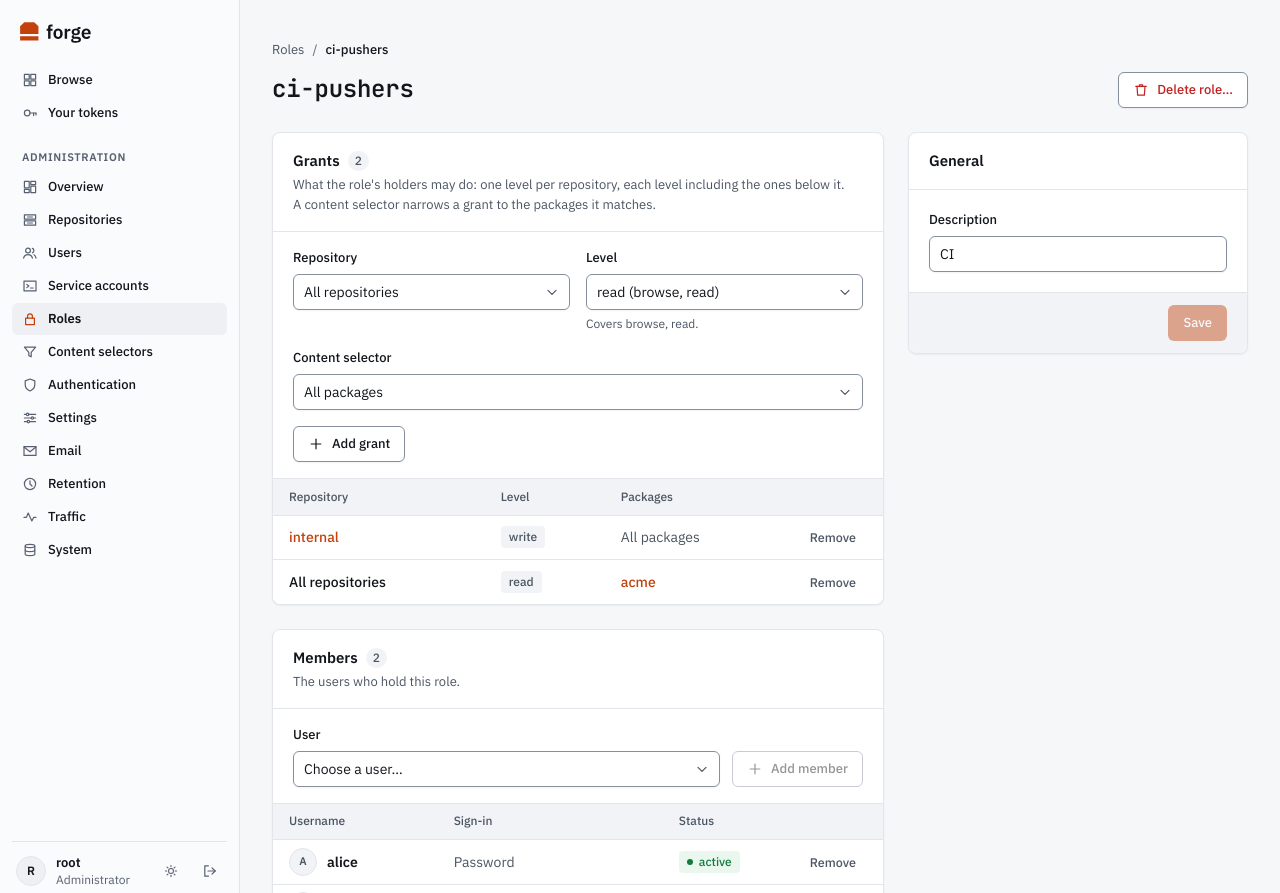
admin roles › sets the level of a grant the role has on that repository
The image size is (1280, 893).
Select "internal" in the dropdown labelled "Repository". click: coordinates (432, 292)
box: [293,274,570,310]
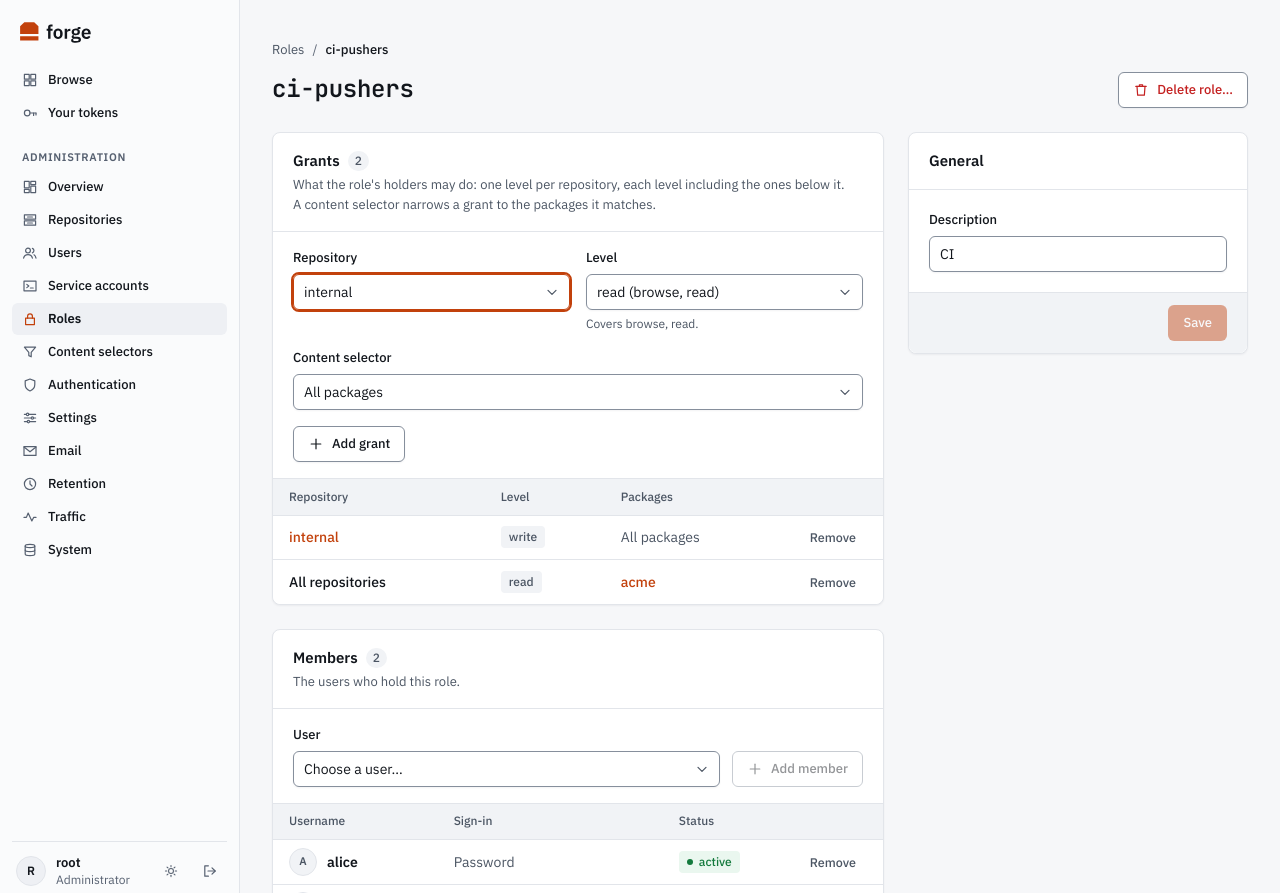
Select "read (browse, read)" in the dropdown labelled "Level". click: coordinates (724, 292)
box: [586,274,863,310]
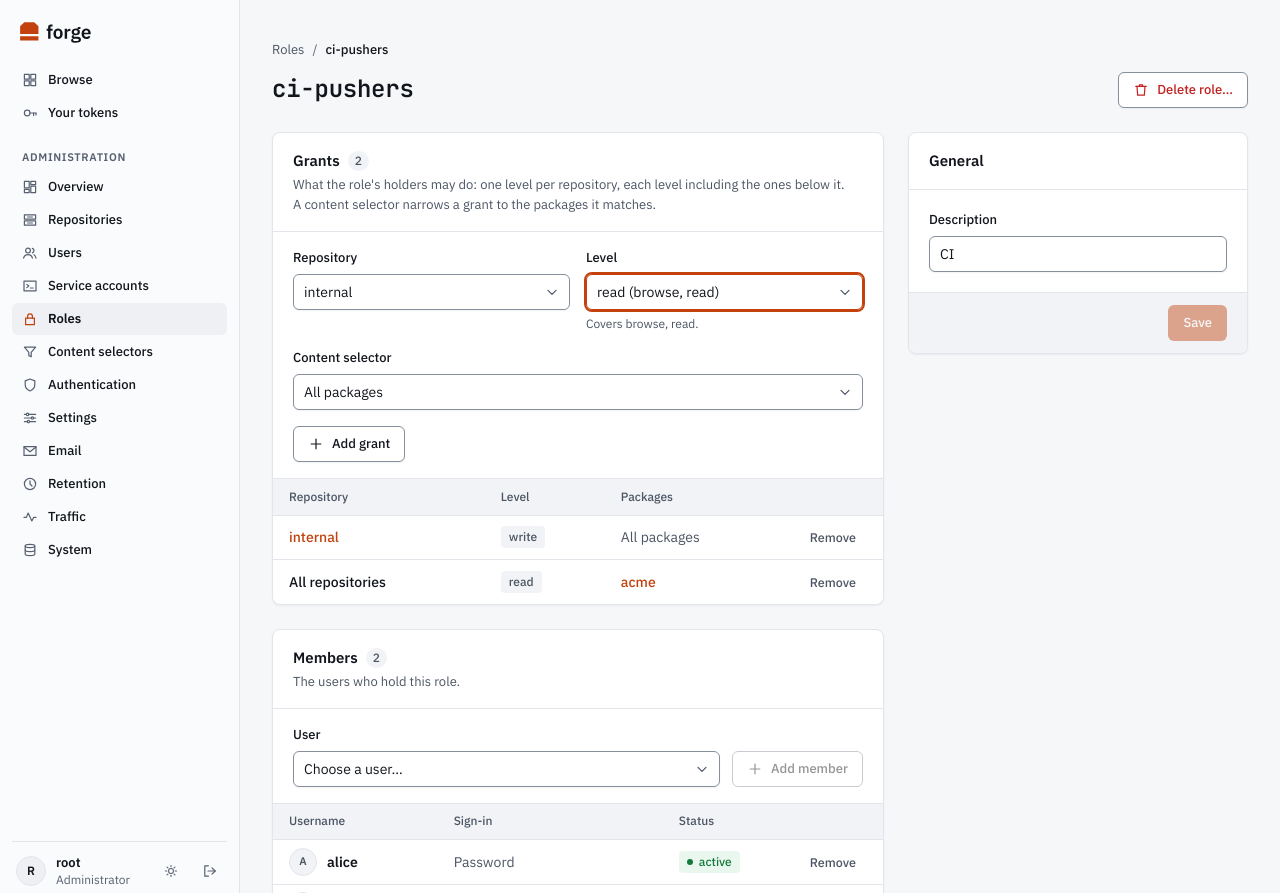
Click the button "Add grant". click: coordinates (349, 444)
box: [293,426,405,462]
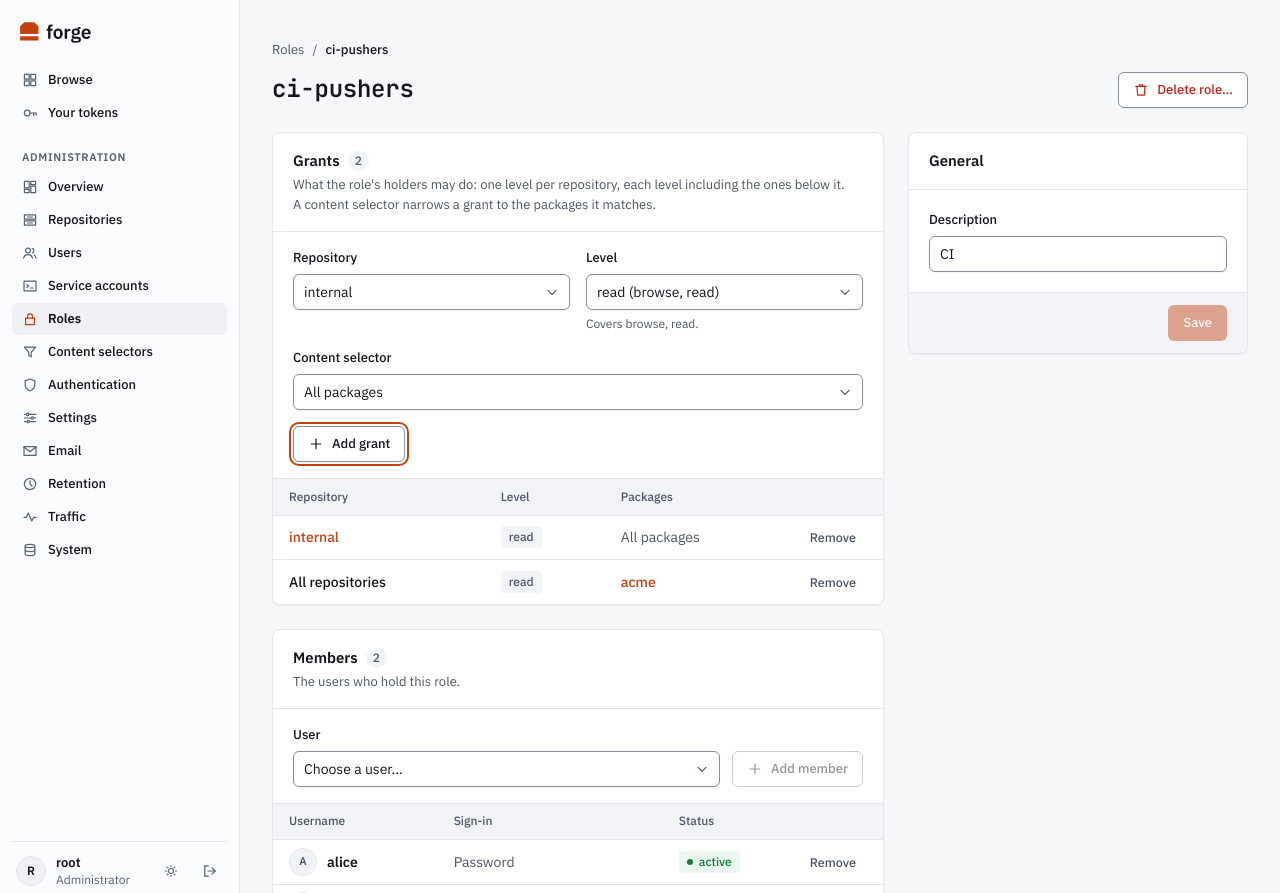
Expected: the text "read" in the row of "internal" is shown, [509,529,534,544]
Expected: the text "write" is gone
